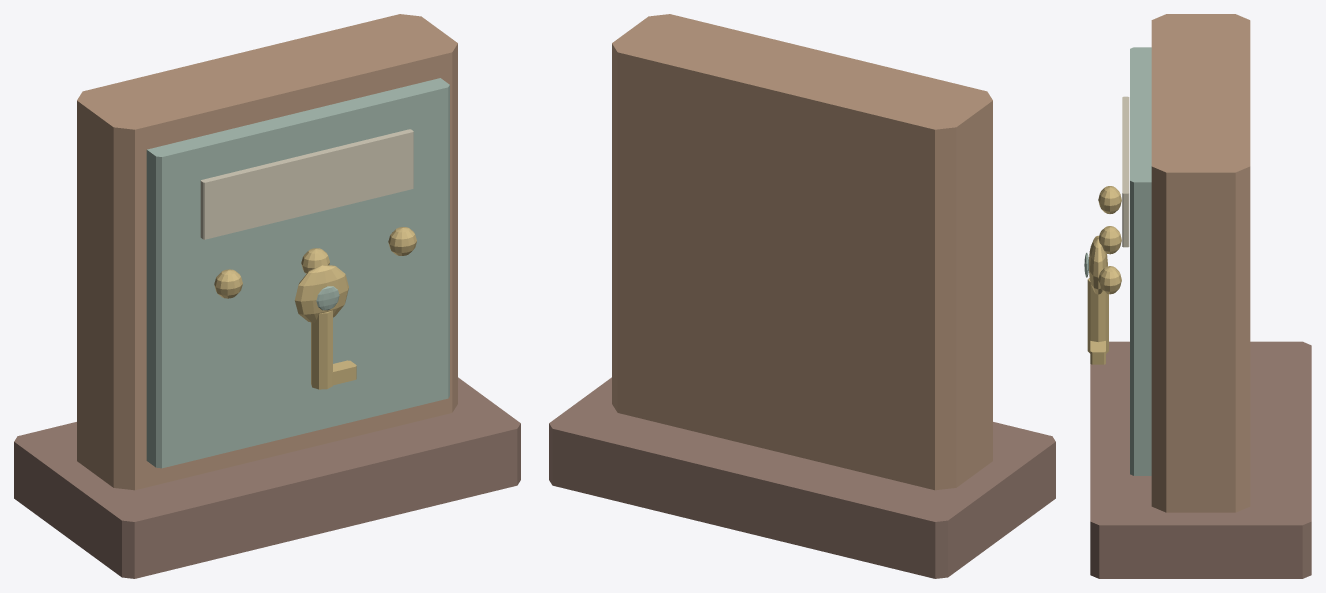
Rendered from keys-cabinet.glb.
3 views of the same model, side by side, from view 1: azimuth 30°, elevation 25°; view 2: azimuth 150°, elevation 25°; view 3: azimuth 270°, elevation 25° (orthographic). The views are drawn at different scales.
Parts seen in each view (by area): view 1: keys-cabinet; view 2: keys-cabinet; view 3: keys-cabinet.
Part boxes in pixels (box(x1,y1,x2,y2)): keys-cabinet: box(14, 14, 520, 578); keys-cabinet: box(549, 14, 1055, 578); keys-cabinet: box(1084, 14, 1311, 578).
Size of the model in its own units: 1.1 by 1.1 by 0.575.
